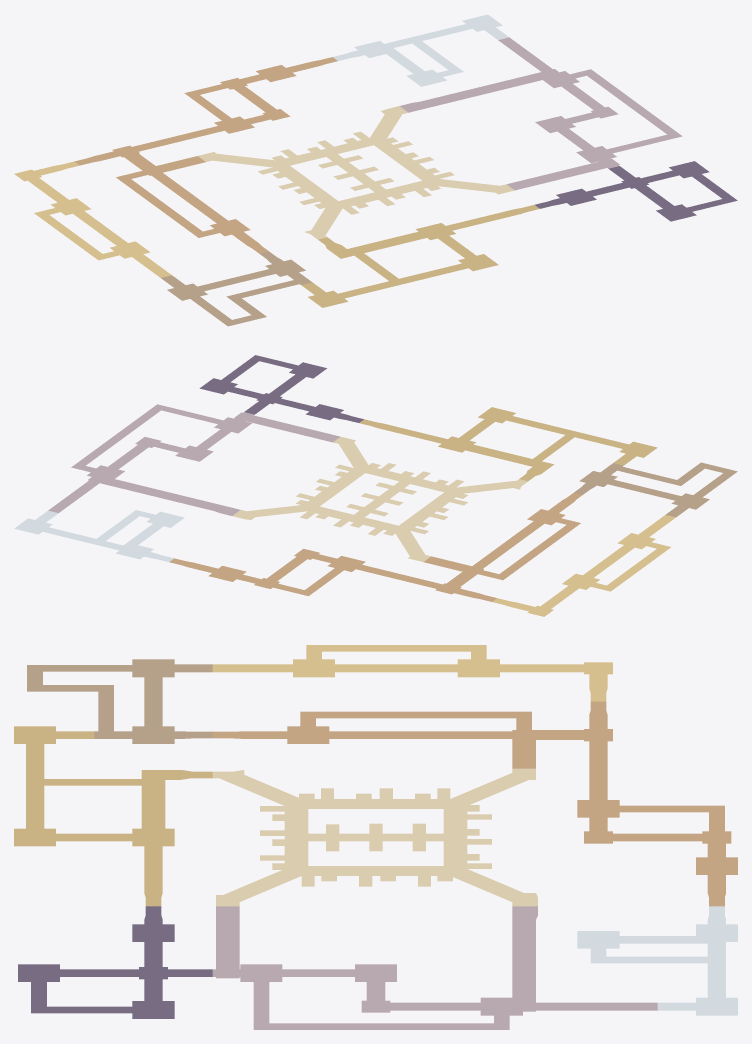
The model's file is CompactRoadsCanonical.glb.
3 views of the same model, one above another, from view 1: azimuth 30°, elevation 25°; view 2: azimuth 150°, elevation 25°; view 3: azimuth 270°, elevation 25° (orthographic). The views are drawn at different scales.
Visible parts, largest first — view 1: Path_Camp_1_1, Path_Jungle_1_2, Path_Swamp_0_2, Path_Forest_1_0, Path_Arctic_2_0, Path_Beach_0_1, Path_GlitchZone_2_2, Path_Forest_0_1, Path_Forest_0_0, Path_Volcano_3_1, Path_Volcano_2_1, Path_Camp_2_1 (+7 smaller); view 2: Path_Camp_1_1, Path_Jungle_1_2, Path_Swamp_0_2, Path_Forest_1_0, Path_Arctic_2_0, Path_Beach_0_1, Path_GlitchZone_2_2, Path_Forest_0_1, Path_Forest_0_0, Path_Volcano_3_1, Path_Volcano_2_1, Path_Camp_2_1 (+7 smaller); view 3: Path_Camp_1_1, Path_Jungle_1_2, Path_Swamp_0_2, Path_Forest_1_0, Path_Arctic_2_0, Path_Beach_0_1, Path_GlitchZone_2_2, Path_Forest_0_1, Path_Forest_0_0, Path_Volcano_3_1, Path_Volcano_2_1, Path_Volcano_3_0 (+10 smaller).
Part boxes in pixels (x1=…): Path_Camp_1_1: x1=240, y1=133, x2=444, y2=233; Path_Jungle_1_2: x1=318, y1=216, x2=498, y2=289; Path_Swamp_0_2: x1=161, y1=251, x2=311, y2=326; Path_Forest_1_0: x1=172, y1=65, x2=294, y2=141; Path_Arctic_2_0: x1=333, y1=25, x2=465, y2=86; Path_Beach_0_1: x1=35, y1=202, x2=163, y2=271; Path_GlitchZone_2_2: x1=535, y1=166, x2=708, y2=221; Path_Forest_0_1: x1=133, y1=180, x2=260, y2=247; Path_Forest_0_0: x1=74, y1=137, x2=205, y2=189; Path_Volcano_3_1: x1=553, y1=76, x2=682, y2=149; Path_Volcano_2_1: x1=507, y1=115, x2=628, y2=184; Path_Camp_2_1: x1=373, y1=126, x2=507, y2=191; Path_Camp_1_1: x1=298, y1=462, x2=520, y2=543; Path_Jungle_1_2: x1=404, y1=407, x2=594, y2=481; Path_Swamp_0_2: x1=574, y1=462, x2=737, y2=517; Path_Forest_1_0: x1=210, y1=548, x2=404, y2=596; Path_Arctic_2_0: x1=49, y1=510, x2=184, y2=561; Path_Beach_0_1: x1=567, y1=520, x2=670, y2=590; Path_GlitchZone_2_2: x1=239, y1=362, x2=363, y2=422; Path_Forest_0_1: x1=482, y1=498, x2=580, y2=568; Path_Forest_0_0: x1=399, y1=556, x2=518, y2=601; Path_Volcano_3_1: x1=80, y1=404, x2=207, y2=471; Path_Volcano_2_1: x1=164, y1=416, x2=333, y2=461; Path_Camp_2_1: x1=273, y1=441, x2=366, y2=512; Path_Camp_1_1: x1=236, y1=770, x2=484, y2=873; Path_Jungle_1_2: x1=14, y1=768, x2=212, y2=873; Path_Swamp_0_2: x1=27, y1=659, x2=212, y2=743; Path_Forest_1_0: x1=577, y1=768, x2=737, y2=873; Path_Arctic_2_0: x1=577, y1=906, x2=737, y2=993; Path_Beach_0_1: x1=236, y1=645, x2=484, y2=677; Path_GlitchZone_2_2: x1=18, y1=906, x2=212, y2=993; Path_Forest_0_1: x1=236, y1=711, x2=484, y2=743; Path_Forest_0_0: x1=484, y1=701, x2=612, y2=768; Path_Volcano_3_1: x1=253, y1=993, x2=484, y2=1029; Path_Volcano_2_1: x1=236, y1=906, x2=396, y2=993; Path_Volcano_3_0: x1=484, y1=993, x2=657, y2=1029.
Size of the model in its own units: 1384 by 0 by 1100.
